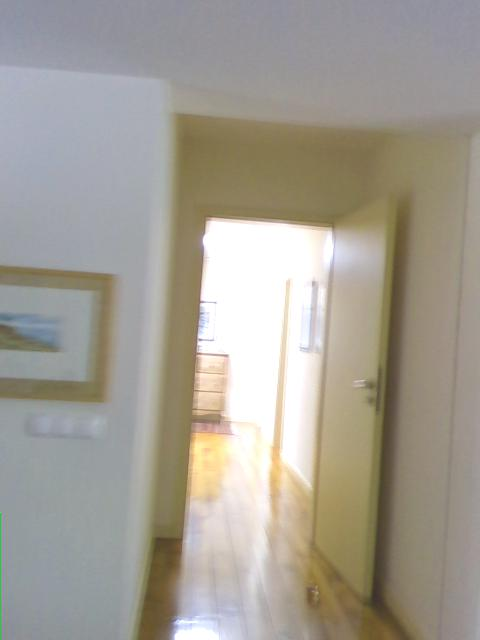open_door: (178, 206, 340, 540)
